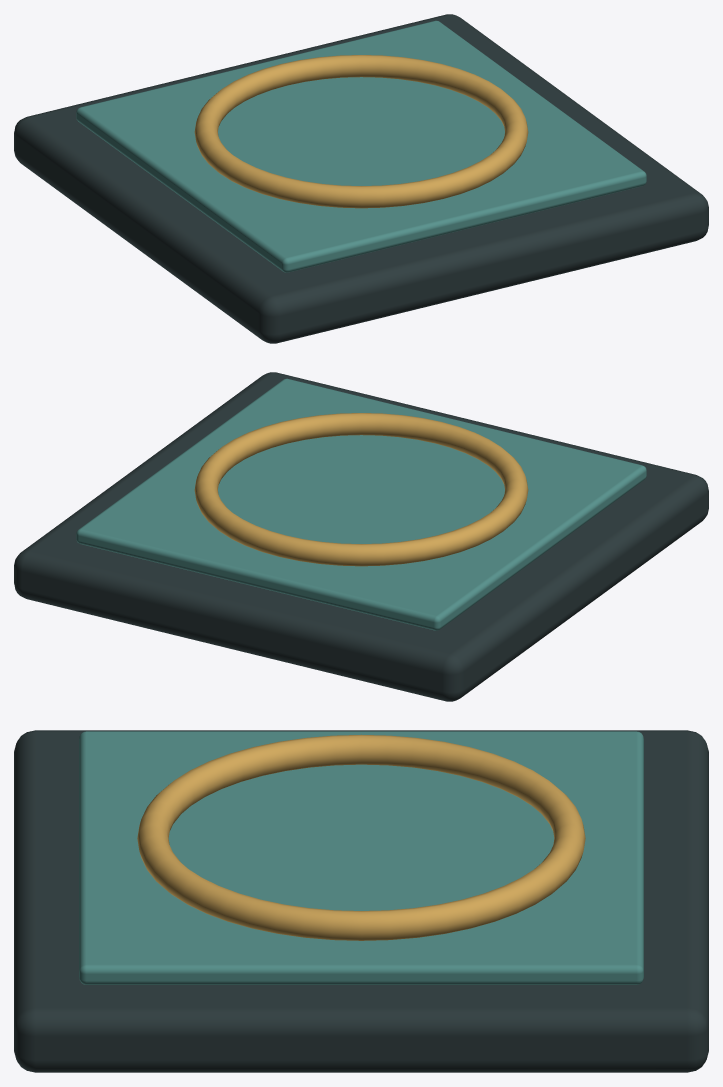
Rendered from socket.glb.
The picture shows the model from 3 angles, top to bottom: view 1: azimuth 30°, elevation 25°; view 2: azimuth 150°, elevation 25°; view 3: azimuth 270°, elevation 25°; orthographic projection. The views are drawn at different scales.
Visible parts, largest first — view 1: socket; view 2: socket; view 3: socket.
Boxes of the visible parts, x1=… form: socket: x1=14, y1=14, x2=708, y2=343; socket: x1=14, y1=372, x2=708, y2=701; socket: x1=14, y1=730, x2=708, y2=1072.
Bounding box in the file's own units: 0.8 × 0.138 × 0.8.
